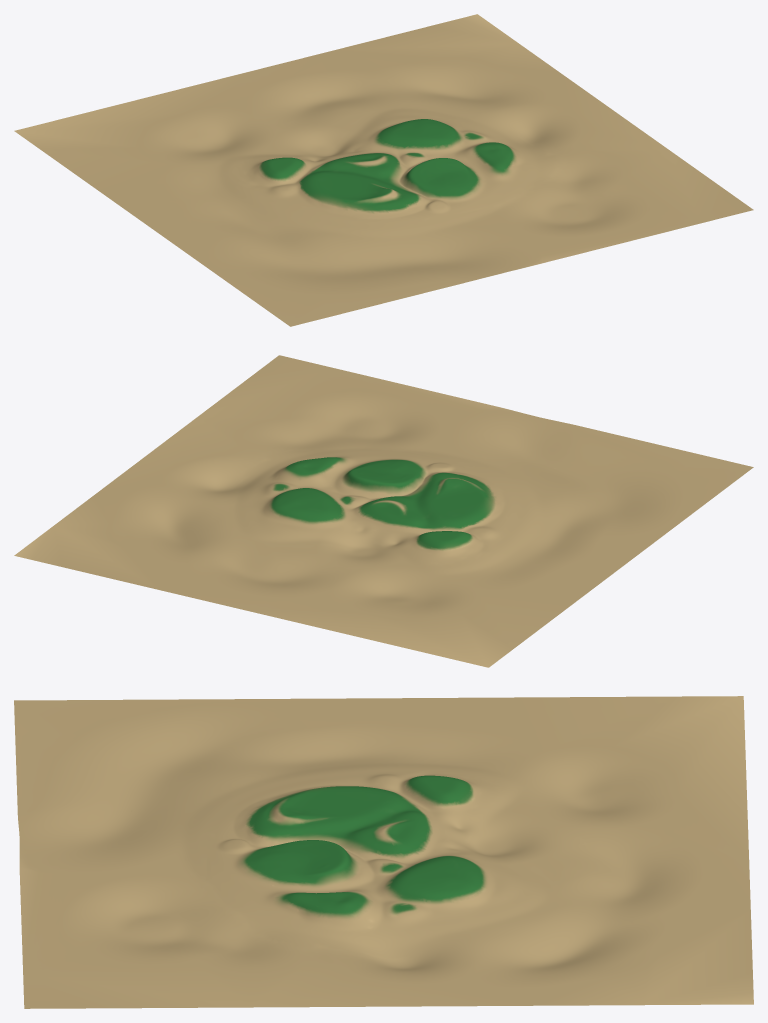
Rendered from terreno.glb.
3 views of the same model, one above another, from view 1: azimuth 30°, elevation 25°; view 2: azimuth 150°, elevation 25°; view 3: azimuth 270°, elevation 25° (orthographic). The views are drawn at different scales.
Visible parts, largest first — view 1: terreno; view 2: terreno; view 3: terreno.
Part boxes in pixels (box(x1,y1,x2,y2)): terreno: box(14, 14, 753, 326); terreno: box(14, 355, 753, 667); terreno: box(14, 696, 753, 1008).
Bounding box in the file's own units: 368 × 16.69 × 368.
